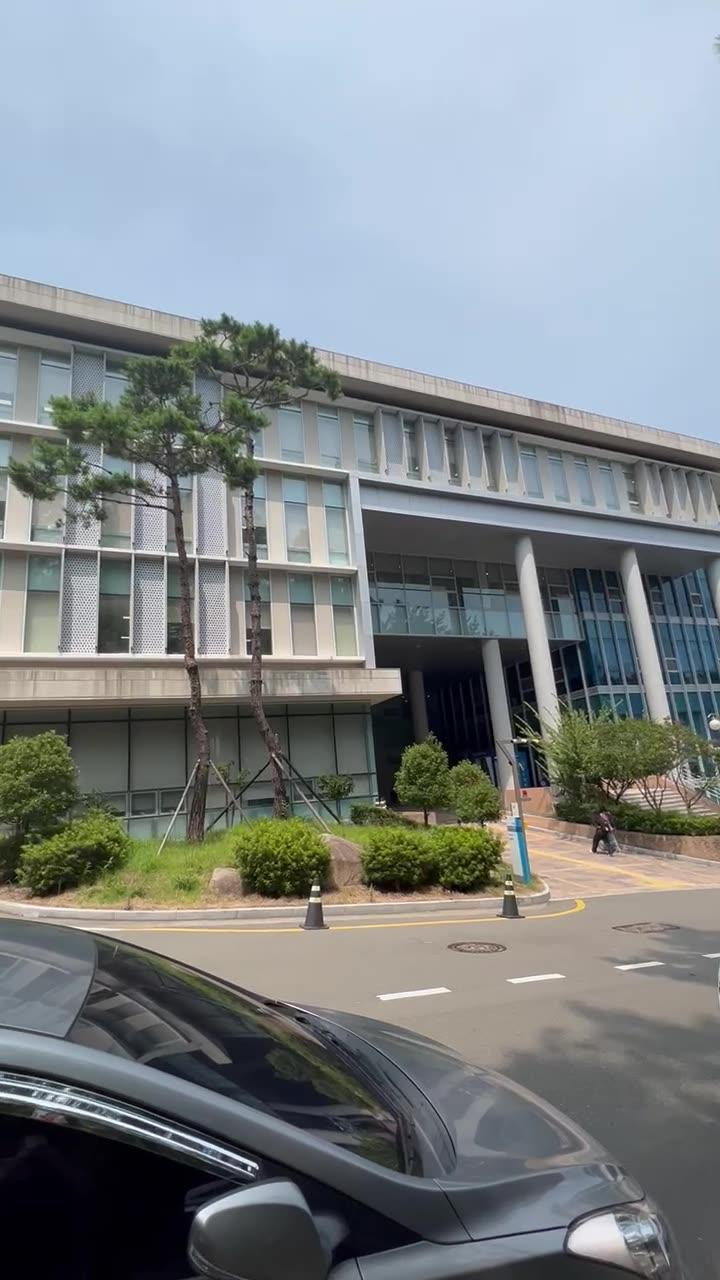building: (296, 366, 720, 744)
